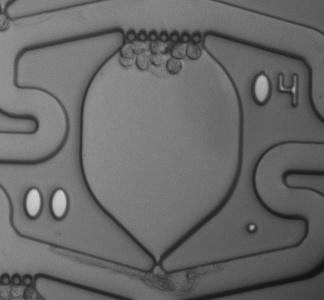AptNum: (246, 64, 306, 112)
Marker: (242, 215, 264, 236)
StNum: (13, 179, 77, 230)
Trap: (130, 257, 187, 300)
